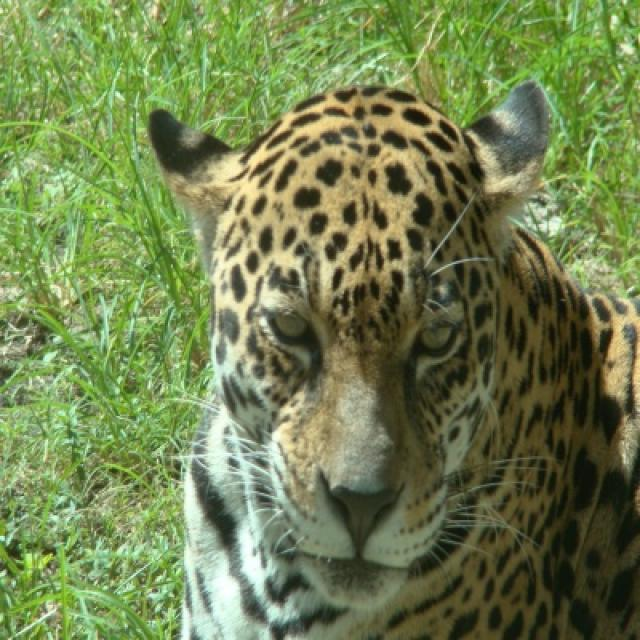Jaguar: (146, 80, 638, 638)
